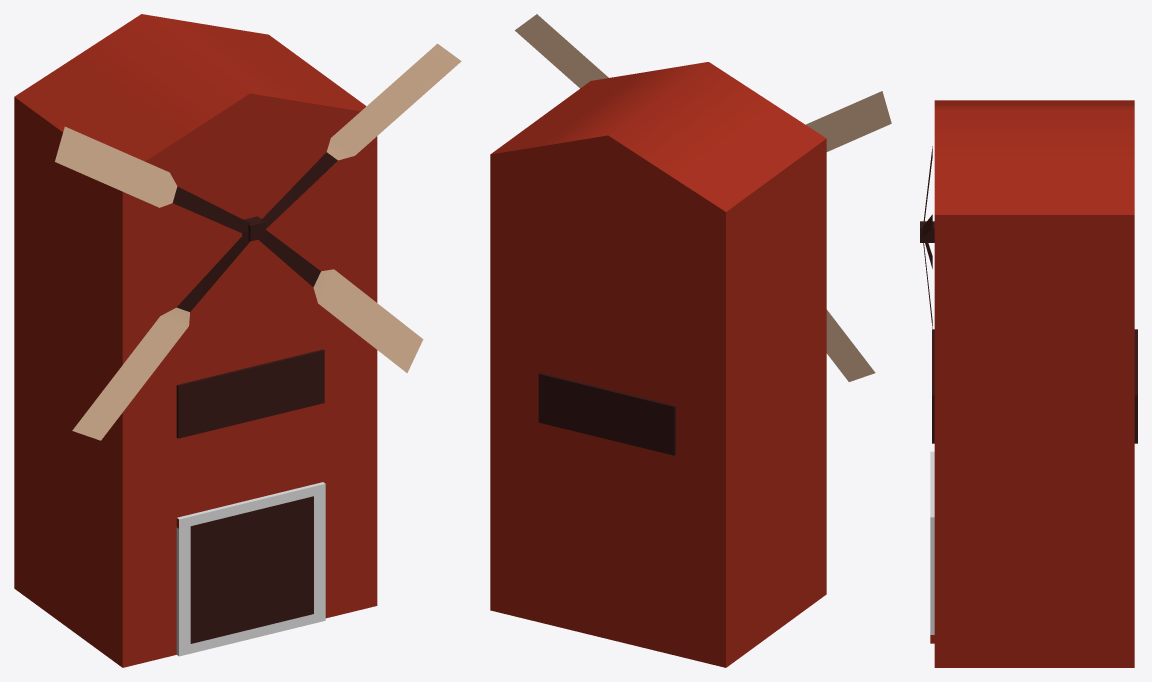
File: barn.fbx
3 renders of one model, left to right at view 1: azimuth 30°, elevation 25°; view 2: azimuth 150°, elevation 25°; view 3: azimuth 270°, elevation 25°, orthographic. The views are drawn at different scales.
Visible parts, largest first — view 1: Plane; view 2: Plane; view 3: Plane.
Part boxes in pixels (x1,y1,x2,y2): Plane: [14, 14, 461, 667]; Plane: [490, 14, 891, 667]; Plane: [920, 100, 1137, 667].
Size of the model in its own units: 714 by 934 by 359.
